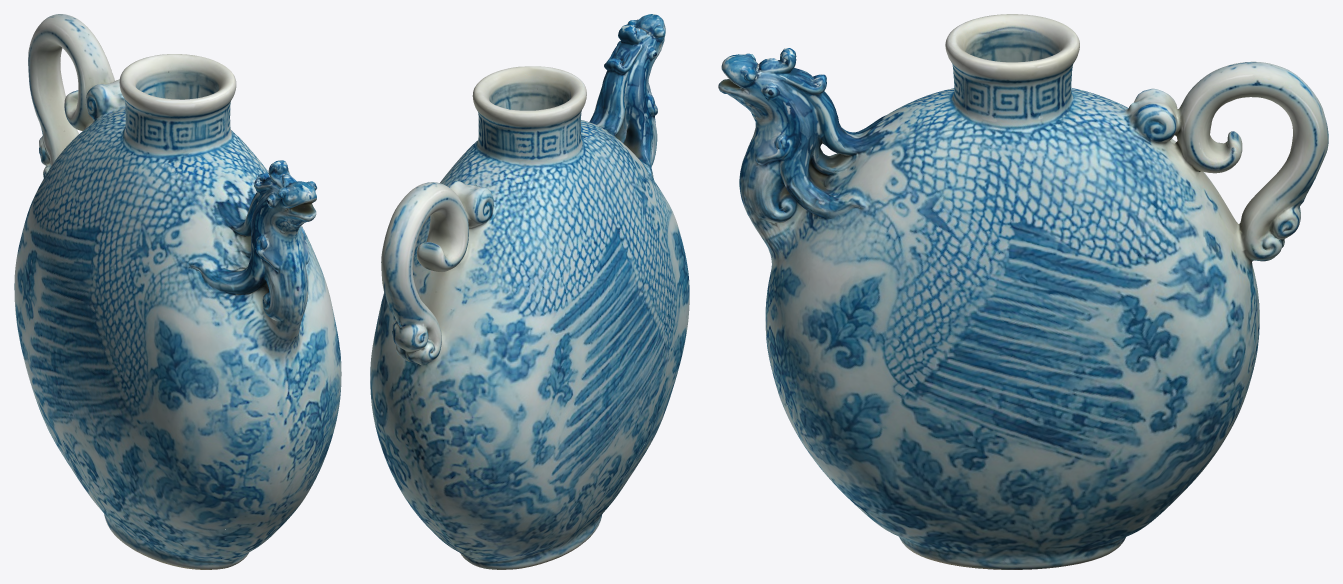
Rendered from phoenix-web-mobile.glb.
3 views of the same model, side by side, from view 1: azimuth 30°, elevation 25°; view 2: azimuth 150°, elevation 25°; view 3: azimuth 270°, elevation 25° (orthographic). The views are drawn at different scales.
Visible parts, largest first — view 1: tripo_node_07039654-0ade-49d4-918f-1af4125001a4; view 2: tripo_node_07039654-0ade-49d4-918f-1af4125001a4; view 3: tripo_node_07039654-0ade-49d4-918f-1af4125001a4.
Boxes of the visible parts, x1,y1,x2,y2 form: tripo_node_07039654-0ade-49d4-918f-1af4125001a4: [14, 14, 341, 569]; tripo_node_07039654-0ade-49d4-918f-1af4125001a4: [370, 14, 689, 569]; tripo_node_07039654-0ade-49d4-918f-1af4125001a4: [718, 14, 1328, 569].
Size of the model in its own units: 0.4212 by 0.8936 by 0.9791.
1 material, 1 textured.
